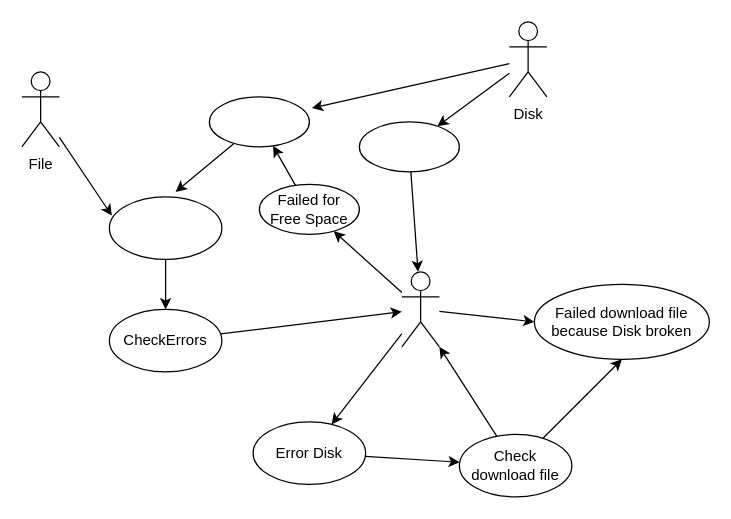
This 731x519 diagram has some shape labels left out. Each missing label, with the box of its shape:
Check Free Space: (358, 121, 459, 172)
Delete something: (208, 96, 309, 147)
Download file in Disk: (108, 196, 222, 259)
Verification: (401, 271, 439, 347)
